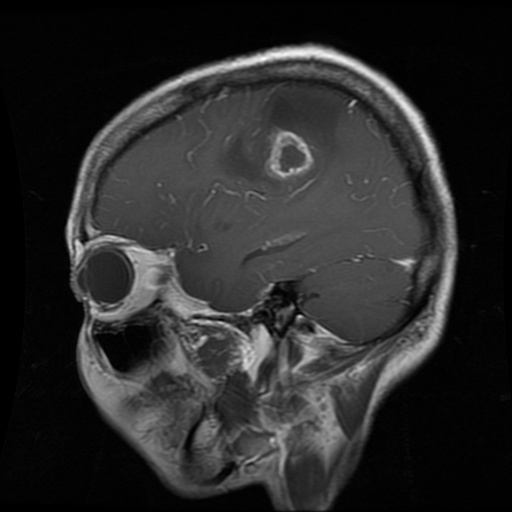glioma: (222, 87, 351, 185)
